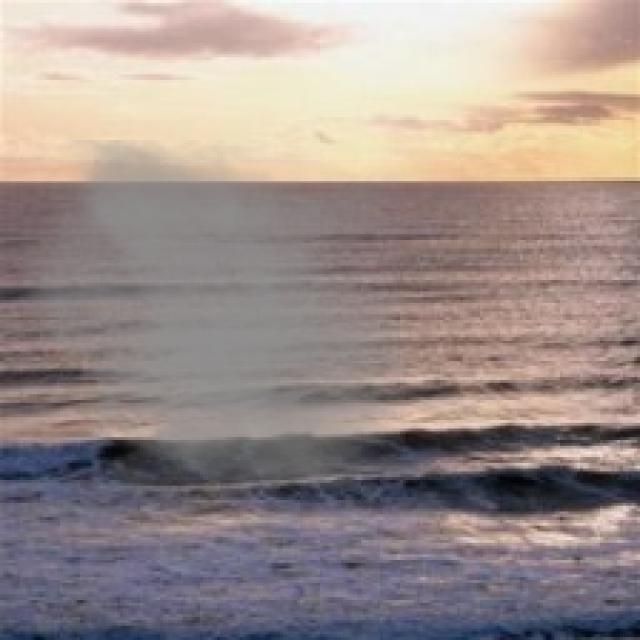Smoke: (3, 140, 406, 497)
